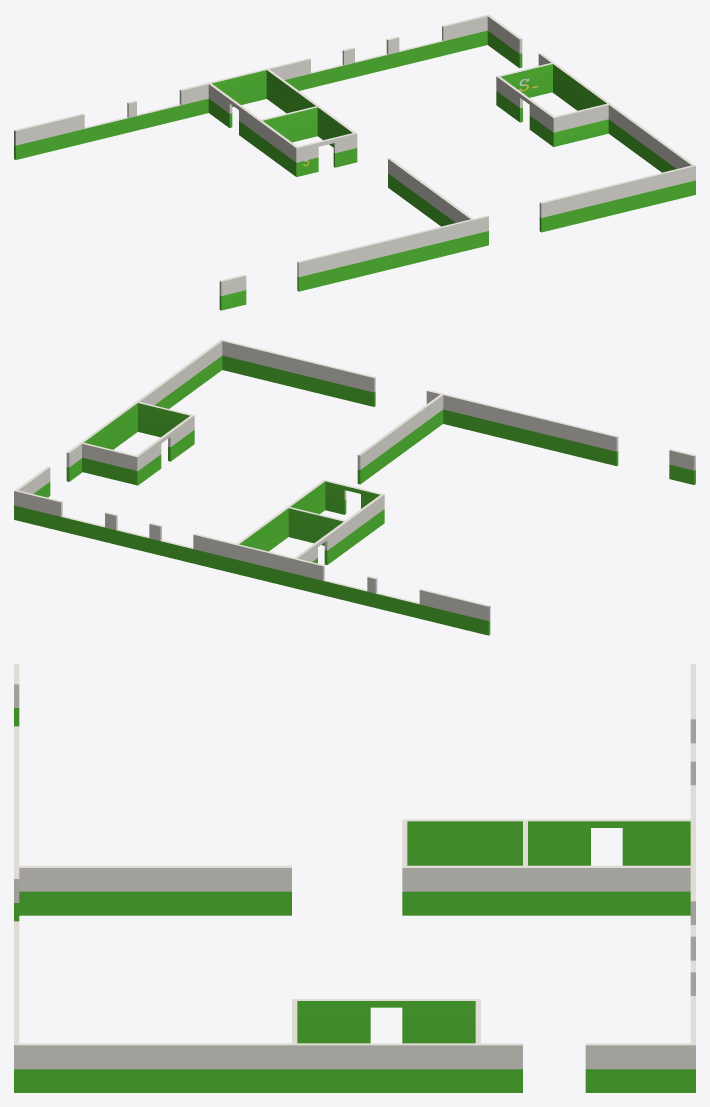
File: Wall.fbx
The picture shows the model from 3 angles, top to bottom: view 1: azimuth 30°, elevation 25°; view 2: azimuth 150°, elevation 25°; view 3: azimuth 270°, elevation 25°; orthographic projection. The views are drawn at different scales.
Parts seen in each view (by area): view 1: Wall; view 2: Wall; view 3: Wall.
Part boxes in pixels (<box>): Wall: <box>14,14,695,310</box>; Wall: <box>14,339,695,635</box>; Wall: <box>14,664,695,1092</box>.
Size of the model in its own units: 4300 by 250 by 3250.
